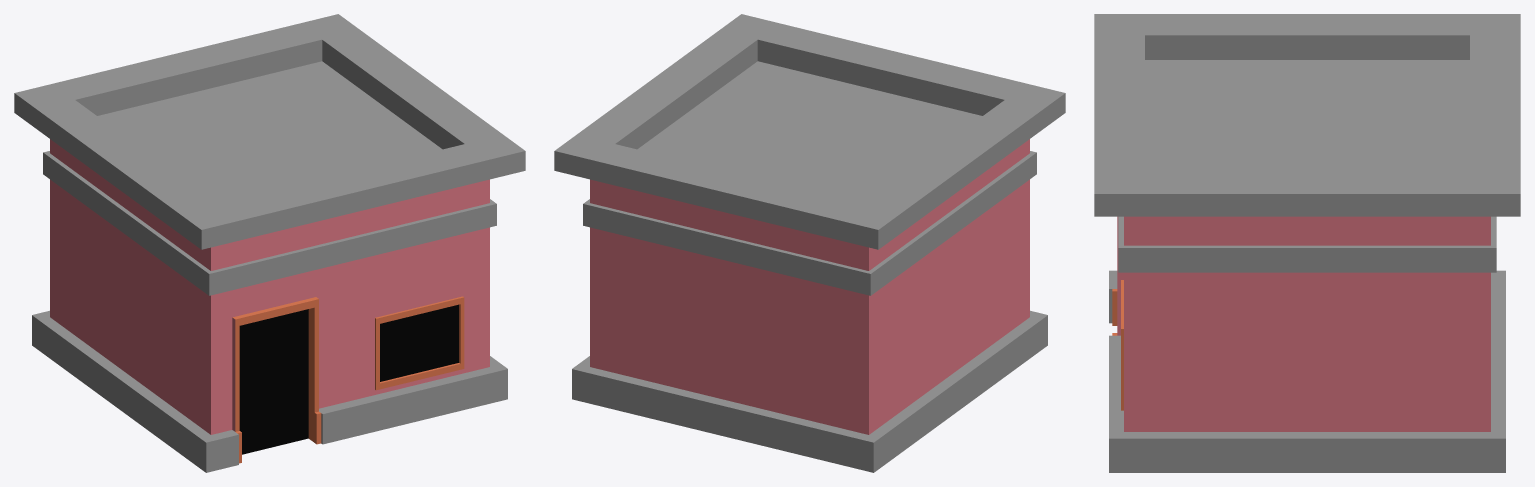
File: house1.fbx
The picture shows the model from 3 angles, left to right: view 1: azimuth 30°, elevation 25°; view 2: azimuth 150°, elevation 25°; view 3: azimuth 270°, elevation 25°; orthographic projection. The views are drawn at different scales.
Visible parts, largest first — view 1: house1; view 2: house1; view 3: house1.
Part boxes in pixels (x1=…): house1: x1=14, y1=14, x2=525, y2=472; house1: x1=554, y1=14, x2=1065, y2=472; house1: x1=1094, y1=14, x2=1520, y2=472.
Bounding box in the file's own units: 5.8 × 4.29 × 5.8.
